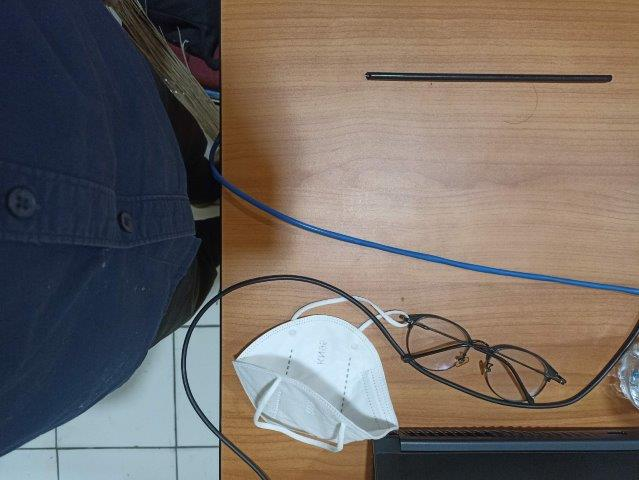sedotan: (366, 72, 612, 83)
